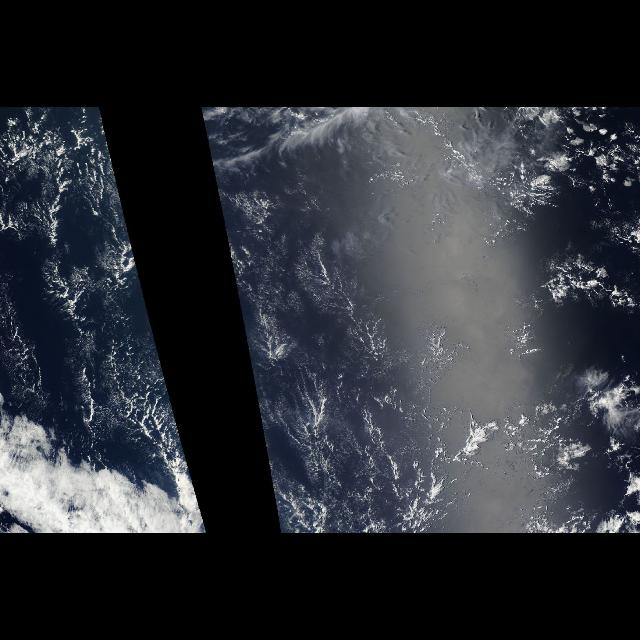Sugar: (214, 176, 516, 514), (36, 176, 202, 514)
